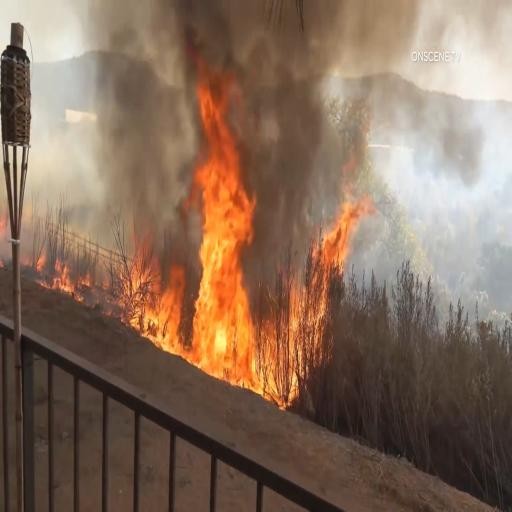fire: (181, 25, 260, 403), (136, 242, 182, 353), (321, 192, 372, 270)
smoke: (88, 6, 174, 221), (267, 29, 314, 260), (319, 2, 404, 92)
